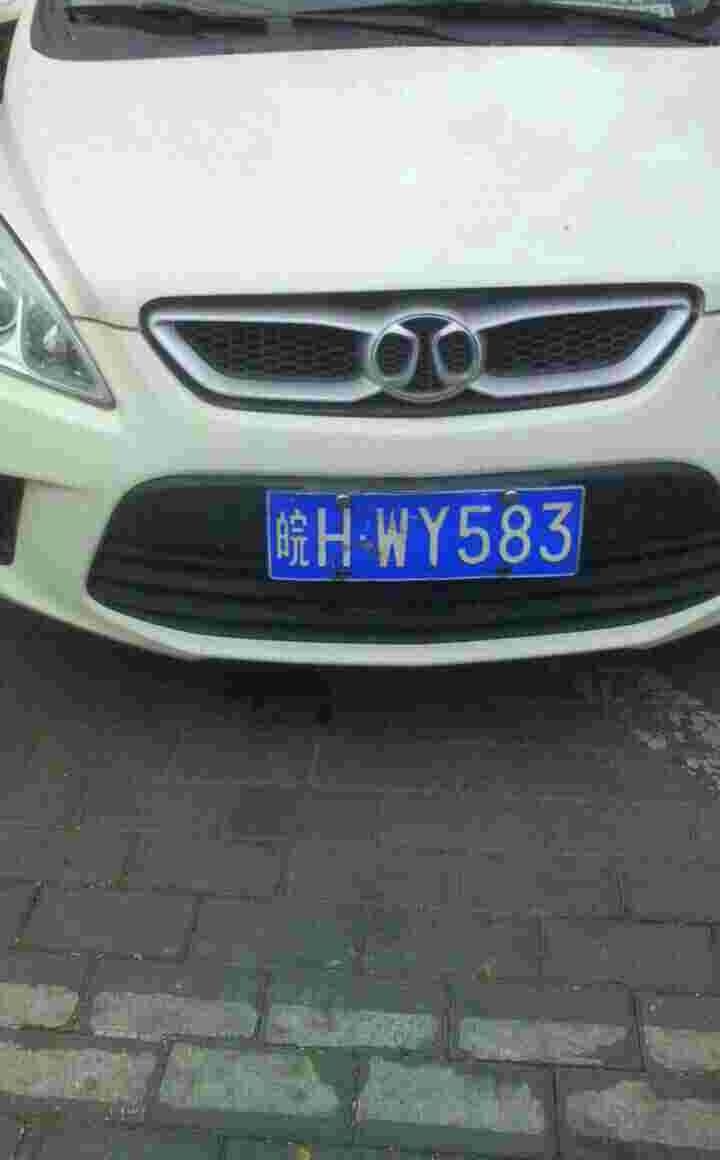license_plate: (265, 481, 600, 587)
